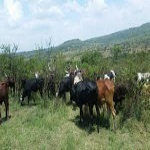Animal: (73, 66, 96, 121), (96, 71, 118, 124), (20, 72, 46, 106), (57, 68, 73, 101)
Uncultivated: (1, 66, 146, 148)
